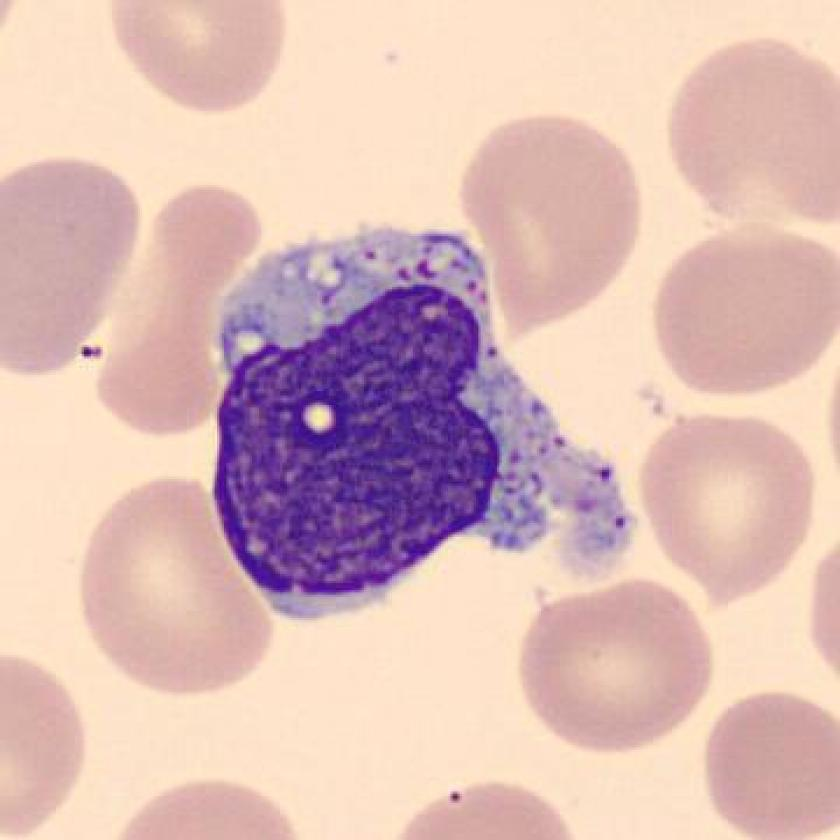monocyte: (193, 212, 655, 644)
